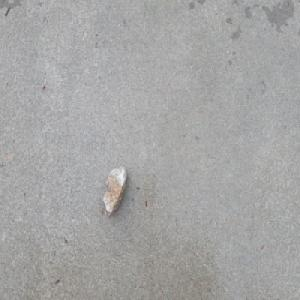Rock: (102, 163, 128, 218)
